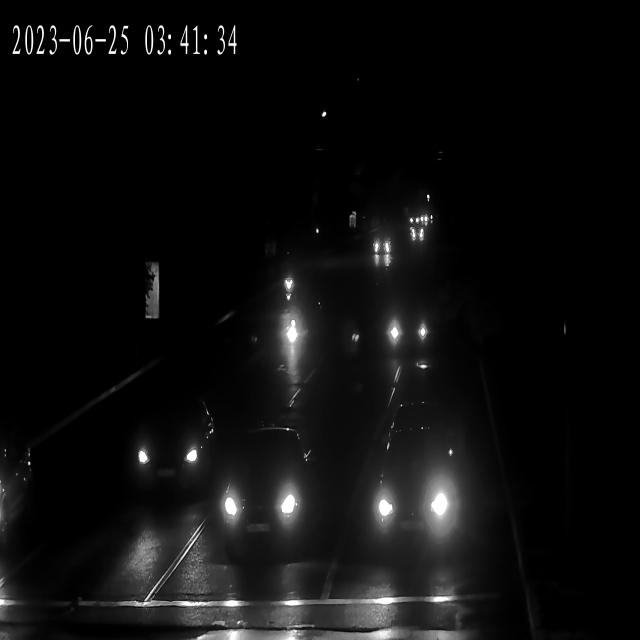Car: (206, 442, 309, 555), (360, 444, 458, 540), (127, 402, 218, 497), (0, 438, 39, 578), (384, 302, 439, 357), (370, 236, 392, 256), (411, 216, 426, 242)
Motorcycle: (276, 302, 312, 379)
